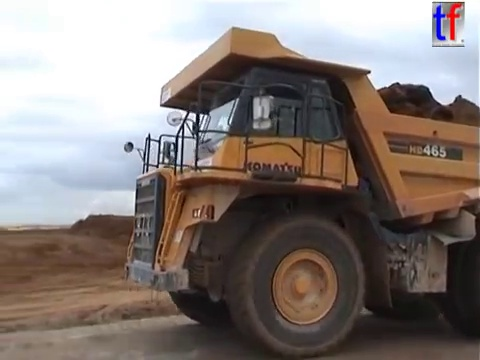truck: (121, 23, 480, 360)
